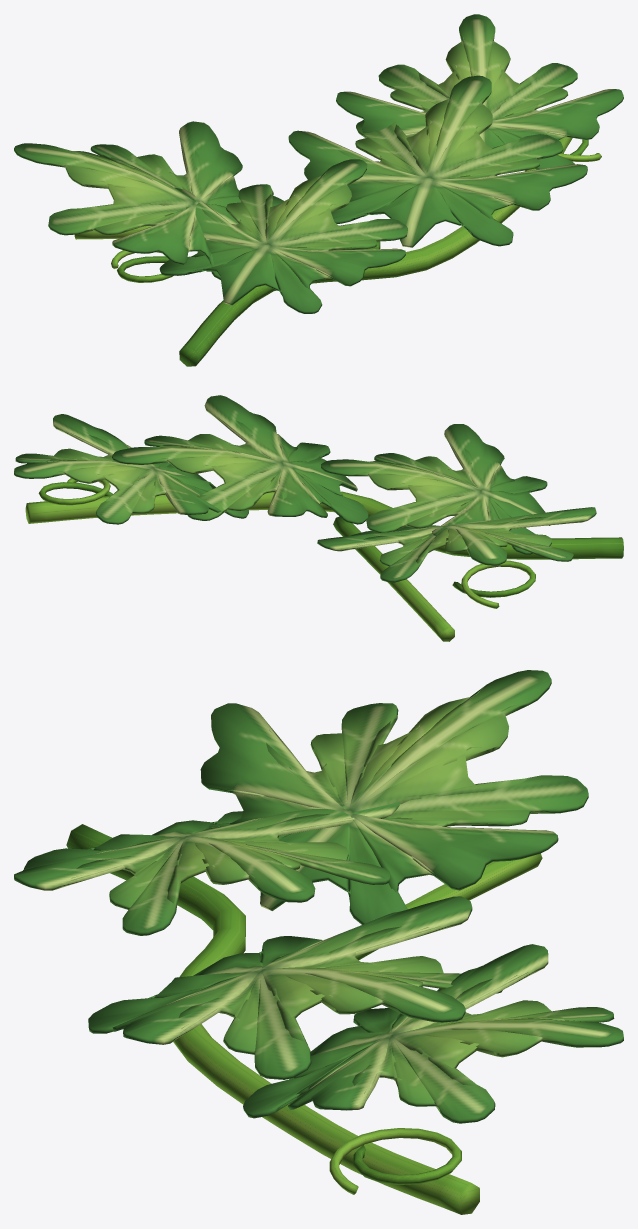
File: NP_Watermelon_Young.fbx
The picture shows the model from 3 angles, top to bottom: view 1: azimuth 30°, elevation 25°; view 2: azimuth 150°, elevation 25°; view 3: azimuth 270°, elevation 25°; orthographic projection. The views are drawn at different scales.
Visible parts, largest first — view 1: NP_Watermelon_Young; view 2: NP_Watermelon_Young; view 3: NP_Watermelon_Young.
Boxes of the visible parts, x1=… form: NP_Watermelon_Young: x1=14, y1=14, x2=623, y2=366; NP_Watermelon_Young: x1=14, y1=395, x2=623, y2=641; NP_Watermelon_Young: x1=14, y1=670, x2=623, y2=1214.
Bounding box in the file's own units: 50.63 × 9.68 × 31.62.
